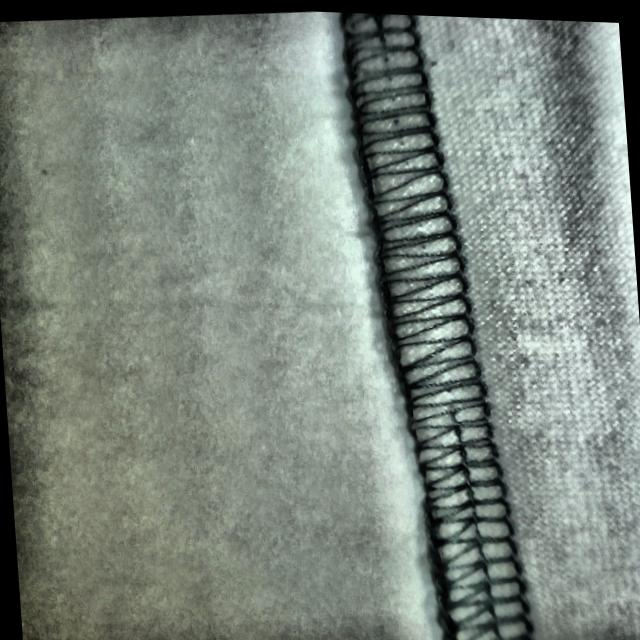Stitch: (378, 247, 528, 640)
